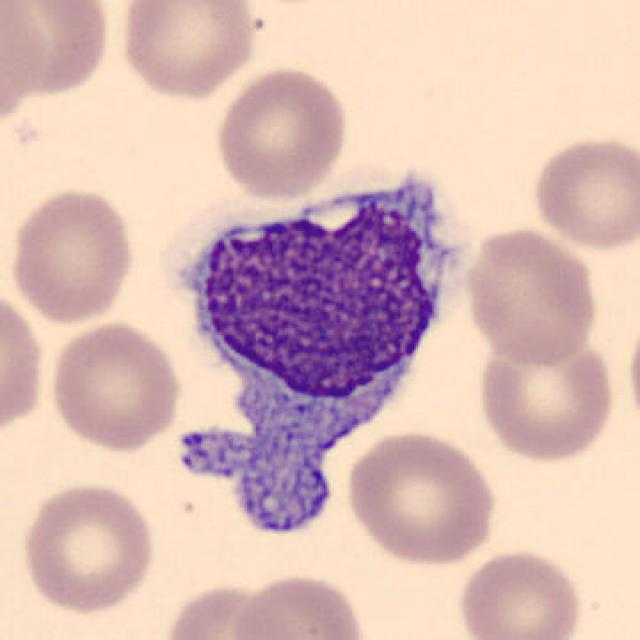Monocyte: (158, 170, 466, 556)
RBC: (343, 427, 501, 568), (460, 224, 602, 367), (474, 326, 618, 466), (18, 478, 160, 617), (212, 63, 352, 203), (5, 182, 139, 326), (46, 317, 185, 453), (115, 0, 261, 102), (526, 130, 638, 254), (454, 545, 588, 640), (0, 0, 115, 100), (230, 569, 374, 640), (160, 578, 299, 640), (0, 282, 50, 448), (0, 2, 50, 134), (624, 302, 640, 444)
